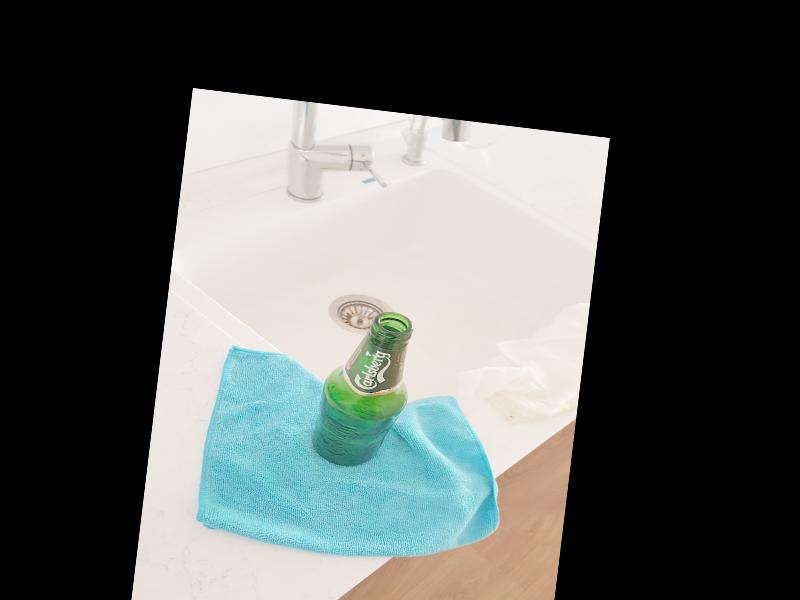Beer: (311, 306, 417, 475)
